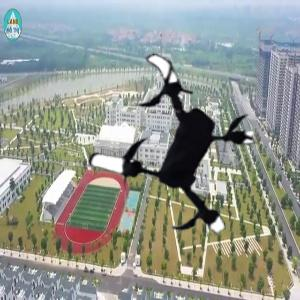drone: (72, 50, 268, 246)
